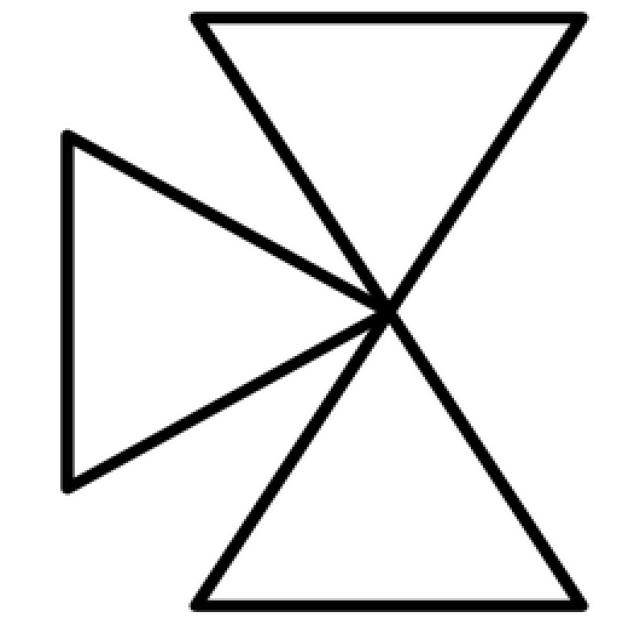3-way Valve: (66, 130, 385, 487), (198, 312, 580, 606), (198, 15, 580, 304)
